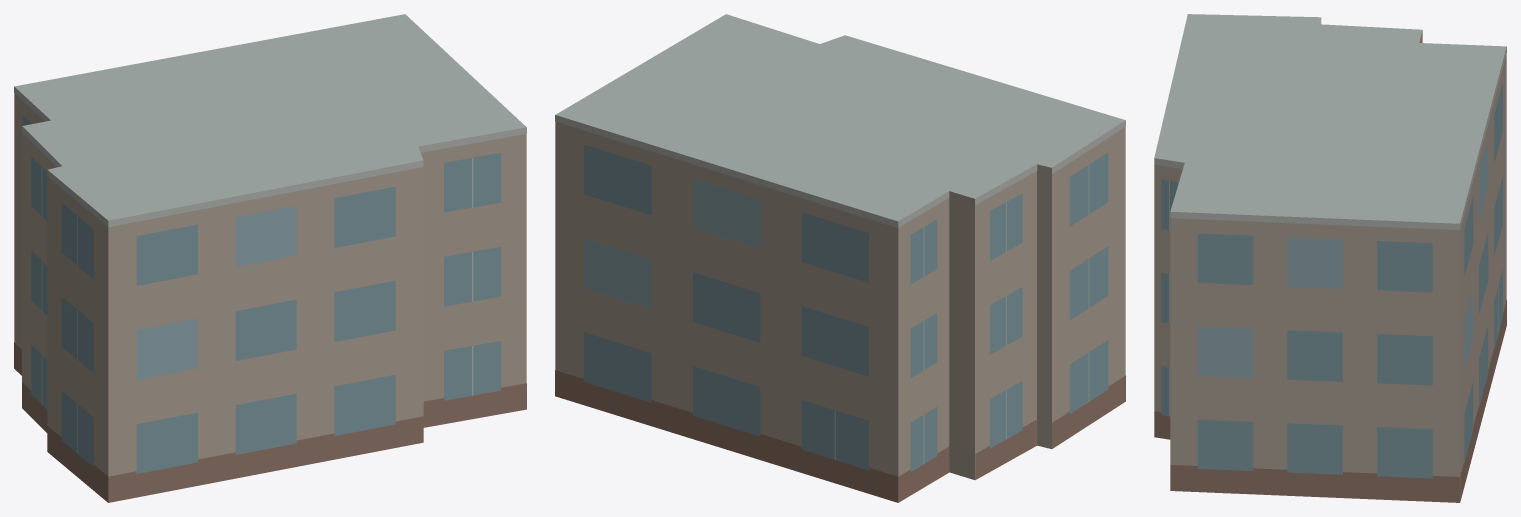
File: survey-upis-32919765.glb
The picture shows the model from 3 angles, left to right: view 1: azimuth 30°, elevation 25°; view 2: azimuth 150°, elevation 25°; view 3: azimuth 270°, elevation 25°; orthographic projection.
Visible parts, largest first — view 1: survey-upis-32919765.tmp; view 2: survey-upis-32919765.tmp; view 3: survey-upis-32919765.tmp.
Boxes of the visible parts, bbox=[...] form: survey-upis-32919765.tmp: bbox=[14, 14, 526, 502]; survey-upis-32919765.tmp: bbox=[555, 14, 1125, 502]; survey-upis-32919765.tmp: bbox=[1154, 14, 1506, 502].
Bounding box in the file's own units: 16.93 × 10.5 × 12.03.
